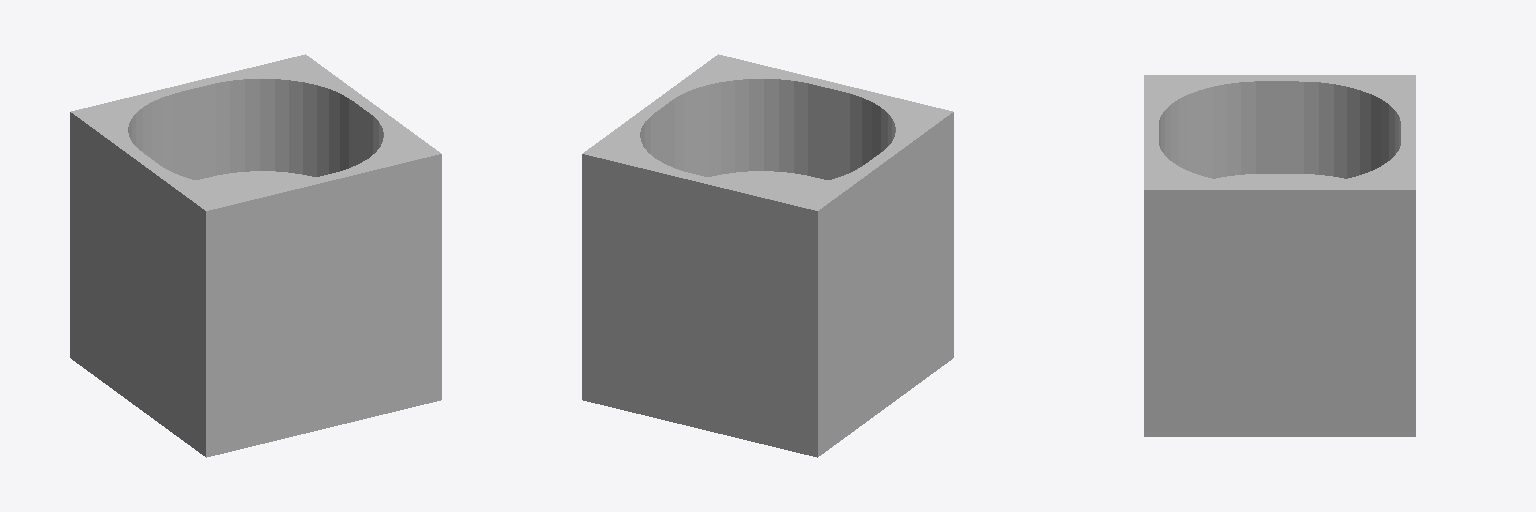
File: Circle_cube_bottle_rotated45_preprocessed.obj
The picture shows the model from 3 angles: view 1: azimuth 30°, elevation 25°; view 2: azimuth 150°, elevation 25°; view 3: azimuth 270°, elevation 25°; orthographic projection.
Bounding box in the file's own units: 0.08 × 0.08 × 0.08.